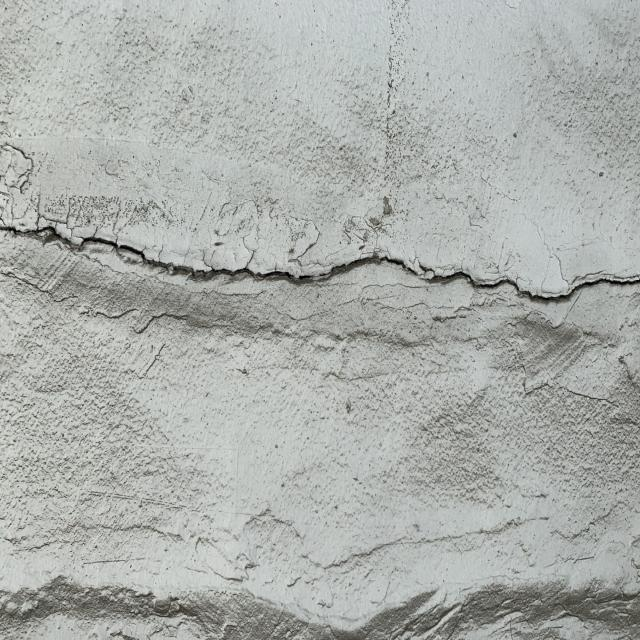SurfaceCrack: (3, 492, 640, 640)
